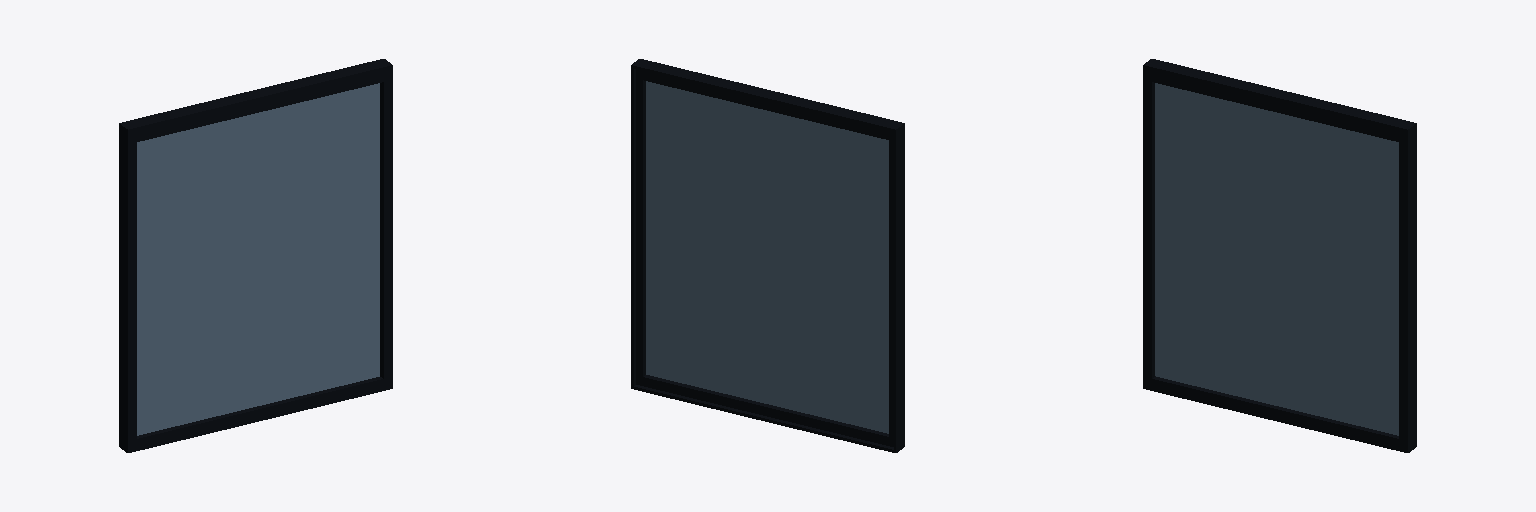
The model's file is chuangh5.obj.
The picture shows the model from 3 angles: view 1: azimuth 30°, elevation 25°; view 2: azimuth 150°, elevation 25°; view 3: azimuth 330°, elevation 25°; orthographic projection.
Visible parts, largest first — view 1: Rectangle088, Rectangle087, Rectangle089; view 2: Rectangle088, Rectangle087, Rectangle089; view 3: Rectangle088, Rectangle087, Rectangle089.
Part boxes in pixels (bbox=[...]): Rectangle088: bbox=[137, 83, 379, 435]; Rectangle087: bbox=[130, 69, 389, 449]; Rectangle089: bbox=[119, 59, 392, 452]; Rectangle088: bbox=[646, 81, 888, 433]; Rectangle087: bbox=[636, 69, 893, 446]; Rectangle089: bbox=[631, 59, 904, 452]; Rectangle088: bbox=[1155, 83, 1398, 435]; Rectangle087: bbox=[1146, 69, 1405, 449]; Rectangle089: bbox=[1143, 59, 1416, 452].
Bounding box in the file's own units: 12 × 14 × 0.7.